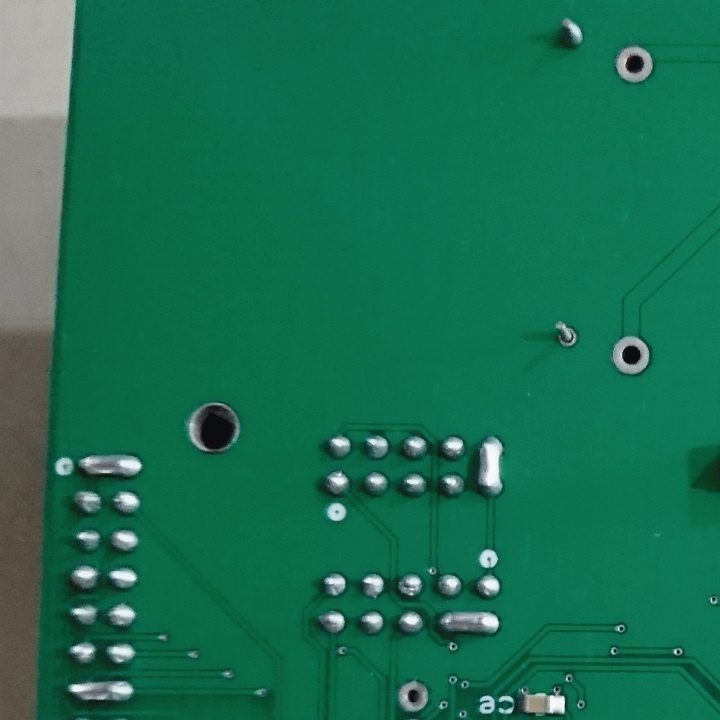F: (607, 331, 653, 378), (613, 45, 654, 85), (394, 677, 433, 715), (550, 317, 579, 352)
P: (474, 430, 507, 502), (61, 676, 137, 706), (76, 450, 145, 483), (434, 606, 504, 637)
